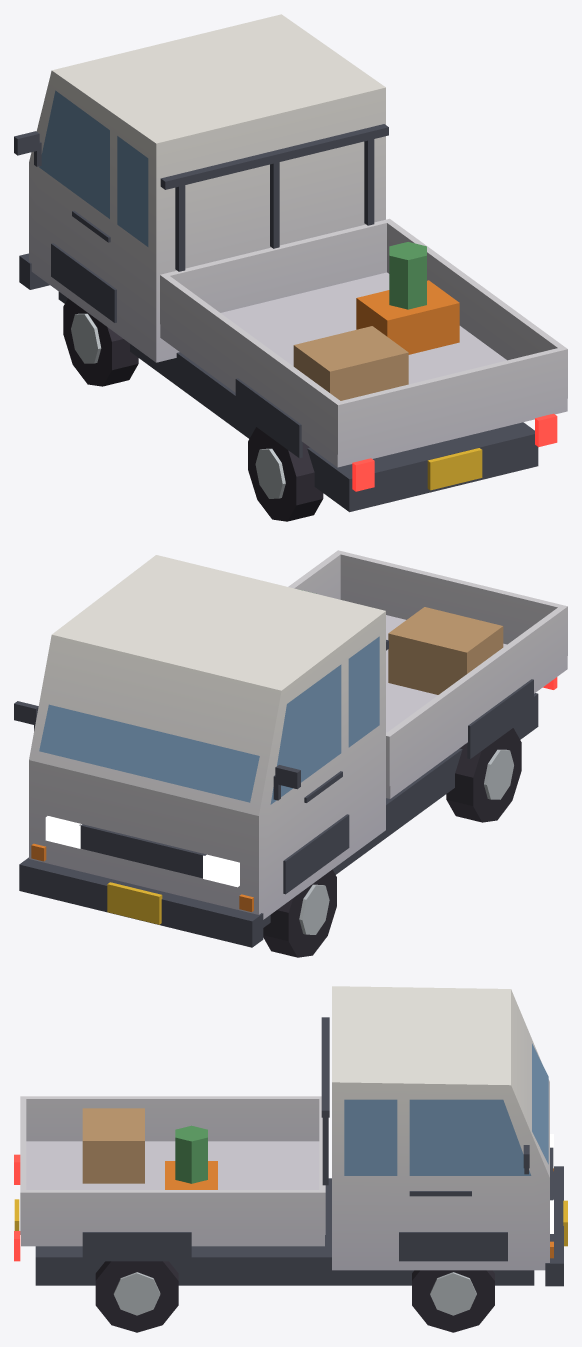
The model's file is kei_truck.glb.
3 renders of one model, top to bottom at view 1: azimuth 30°, elevation 25°; view 2: azimuth 150°, elevation 25°; view 3: azimuth 270°, elevation 25°, orthographic. The views are drawn at different scales.
Parts seen in each view (by area): view 1: kei_truck; view 2: kei_truck; view 3: kei_truck.
Boxes of the visible parts, <box> form: kei_truck: <box>14,14,567,521</box>; kei_truck: <box>14,550,567,957</box>; kei_truck: <box>14,986,567,1332</box>.
Size of the model in its own units: 1.8 by 1.78 by 3.55.
